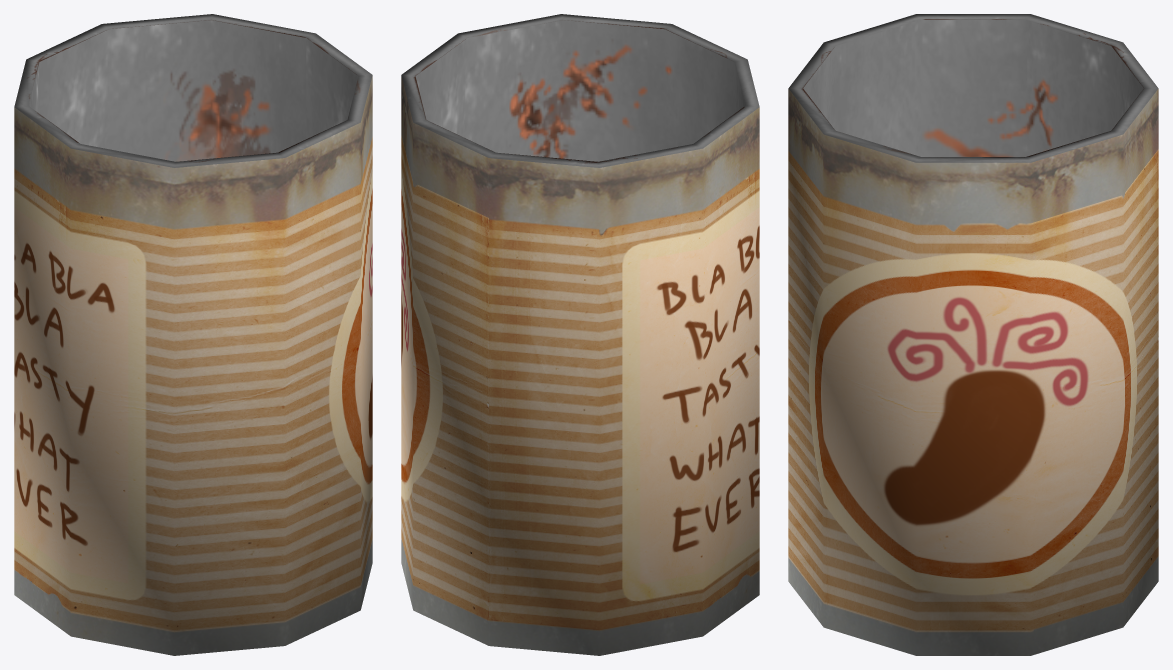
Rendered from Can_2.fbx.
3 views of the same model, side by side, from view 1: azimuth 30°, elevation 25°; view 2: azimuth 150°, elevation 25°; view 3: azimuth 270°, elevation 25° (orthographic).
Parts seen in each view (by area): view 1: Can; view 2: Can; view 3: Can.
Part boxes in pixels (<box>): Can: <box>14,14,372,655</box>; Can: <box>401,14,759,655</box>; Can: <box>788,14,1158,655</box>.
Bounding box in the file's own units: 190 × 294 × 200.
